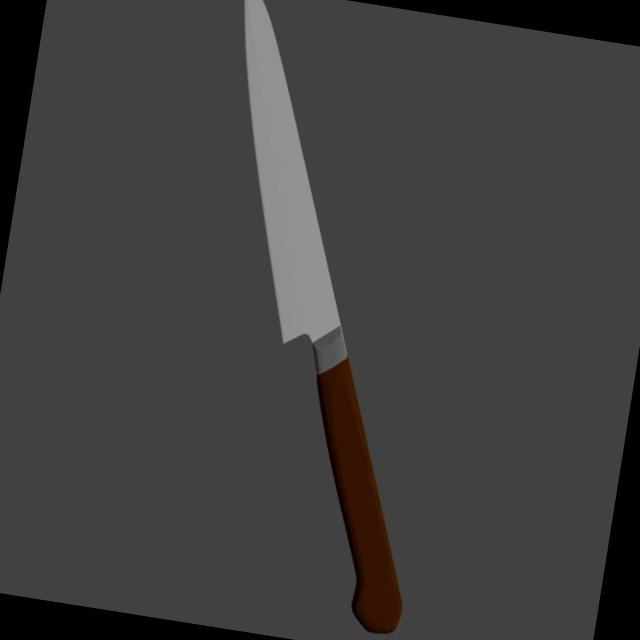knife: (277, 351, 440, 637)
